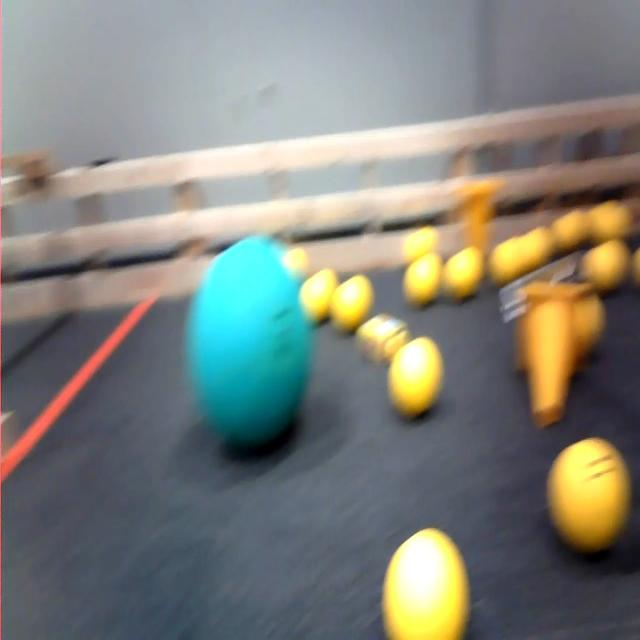fuel: (369, 516, 485, 640), (543, 421, 635, 552), (388, 328, 445, 421), (583, 234, 632, 301), (403, 243, 444, 308), (445, 239, 487, 302), (331, 270, 374, 330), (300, 260, 342, 318), (520, 221, 558, 265), (594, 200, 632, 244), (403, 221, 440, 265), (558, 202, 591, 250), (489, 231, 521, 276)
